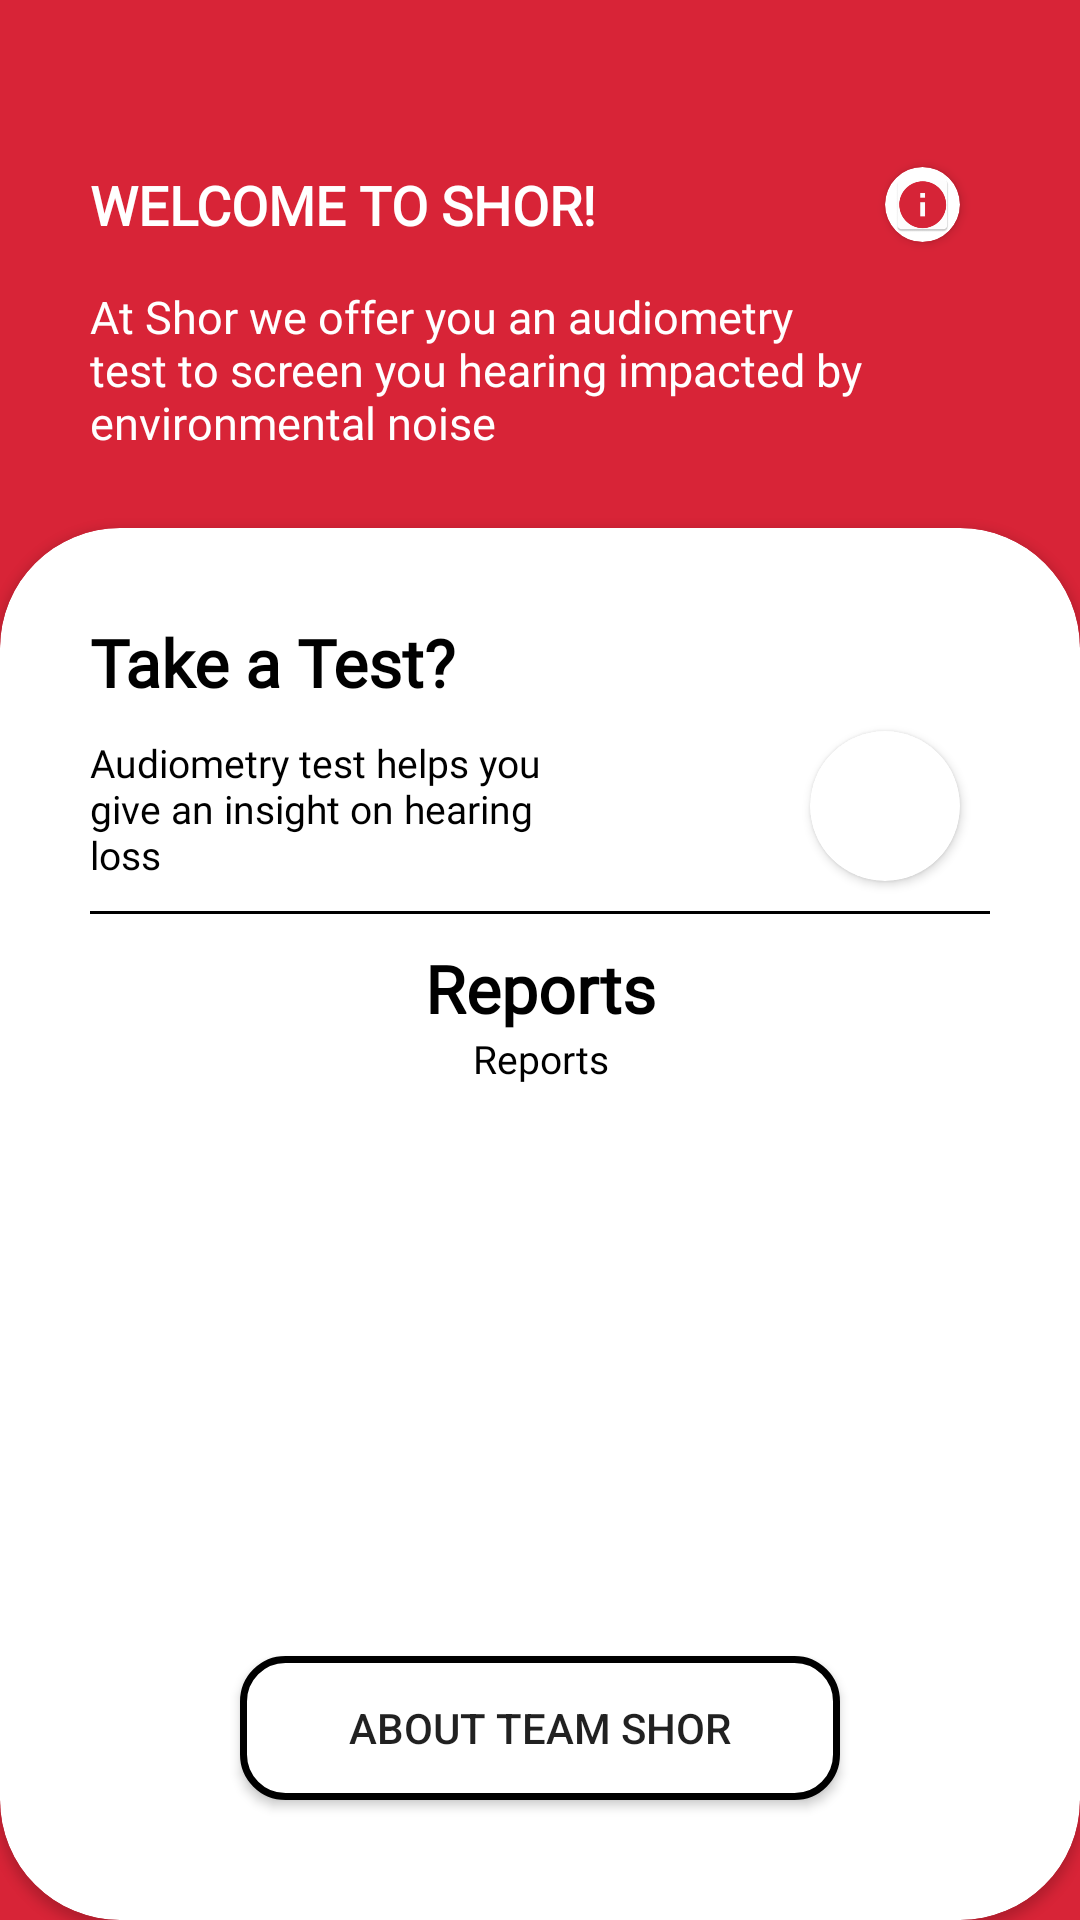

Where to tap for icons on this 1080×1920 app screen, as (x=x, y=y):
info: (x=922, y=204)
